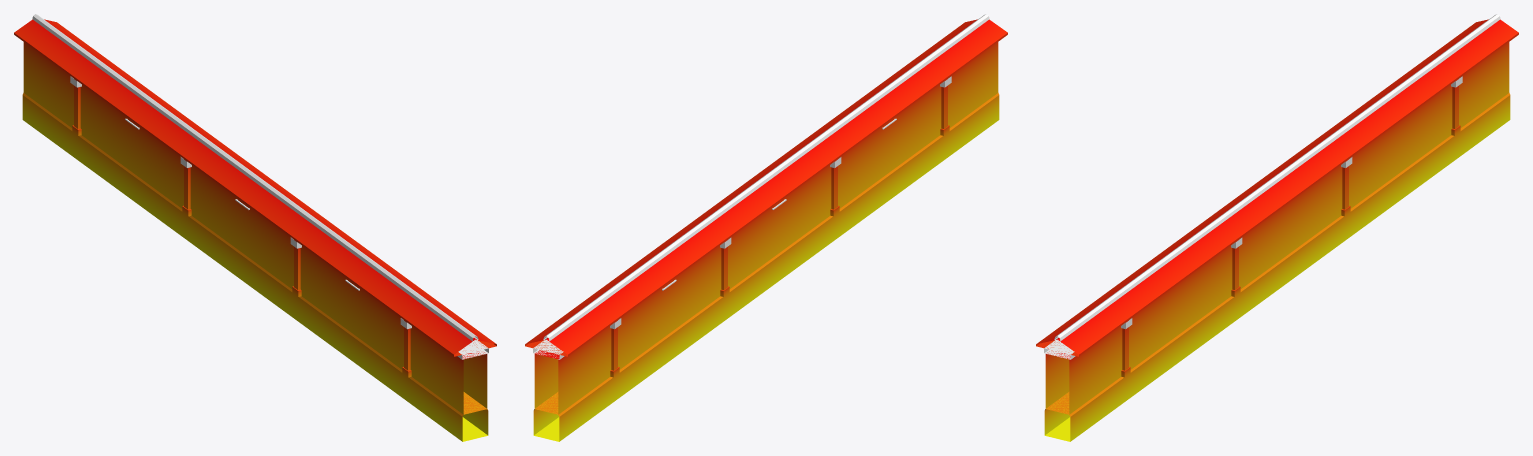
File: SM_Env_WallE.fbx
The picture shows the model from 3 angles, left to right: view 1: azimuth 30°, elevation 25°; view 2: azimuth 150°, elevation 25°; view 3: azimuth 330°, elevation 25°; orthographic projection.
Visible parts, largest first — view 1: SM_Env_WallE; view 2: SM_Env_WallE; view 3: SM_Env_WallE.
Part boxes in pixels (<box>): SM_Env_WallE: <box>14,14,496,441</box>; SM_Env_WallE: <box>525,14,1007,441</box>; SM_Env_WallE: <box>1036,14,1518,441</box>.
Size of the model in its own units: 1.8 by 4.12 by 32.
